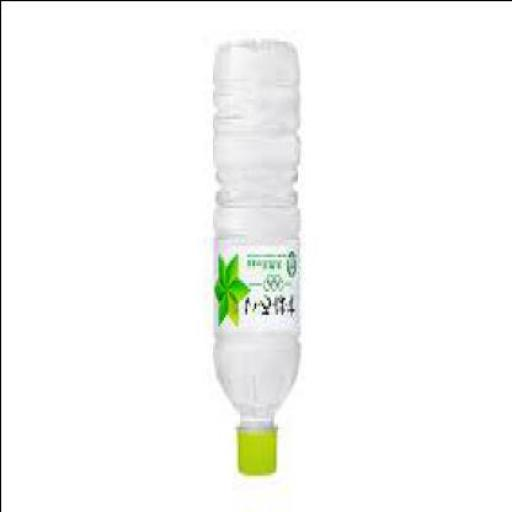plastic: (212, 43, 296, 478), (234, 432, 273, 478)
